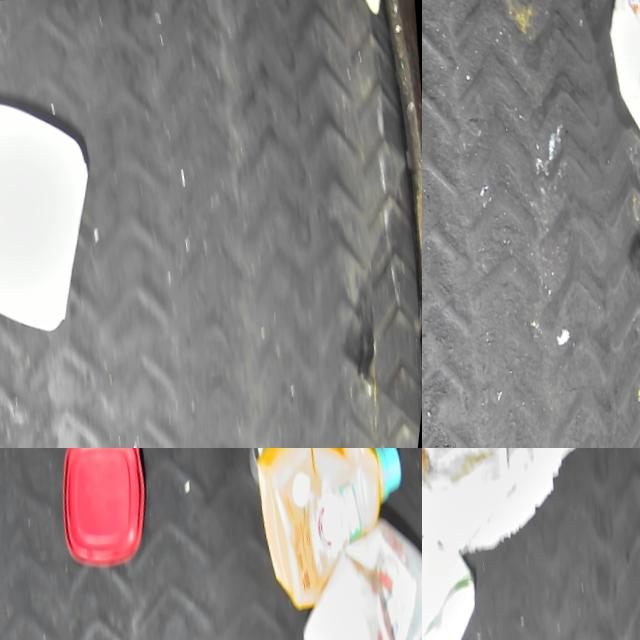can: (238, 448, 288, 483)
milk_jug: (0, 74, 126, 346), (277, 501, 422, 640), (422, 521, 501, 640), (587, 0, 640, 148)
non_white_jug: (235, 448, 422, 614)
